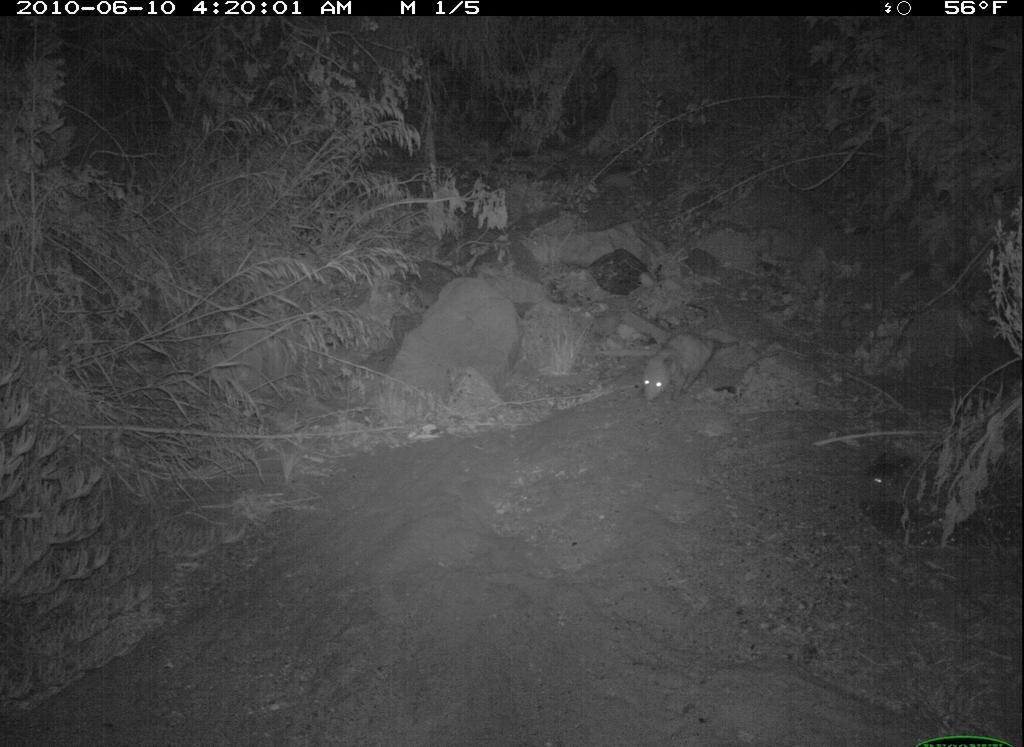opossum: (635, 328, 731, 417)
